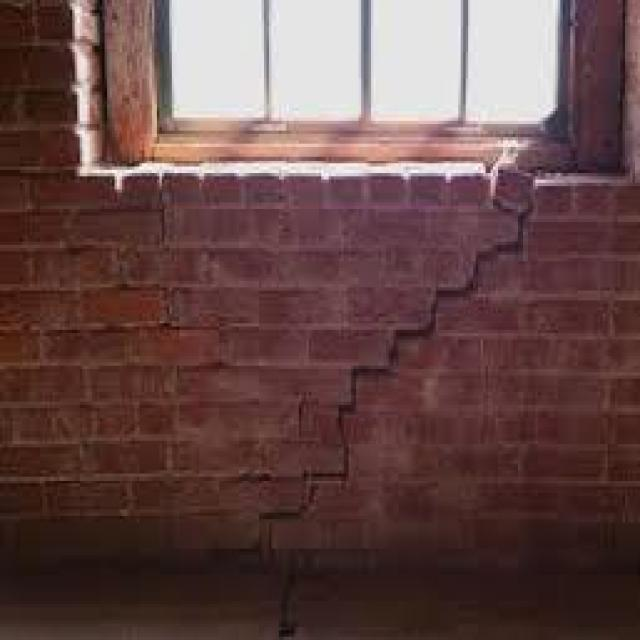Crack: (251, 176, 533, 562)
